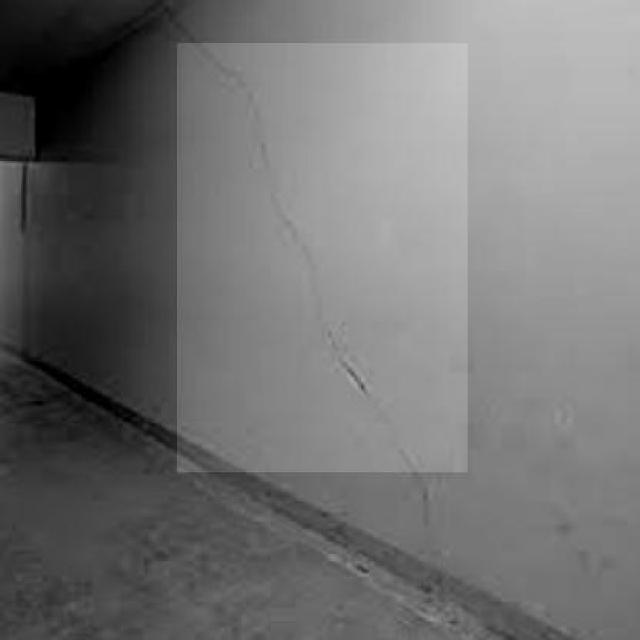Crack: (176, 9, 479, 545)
